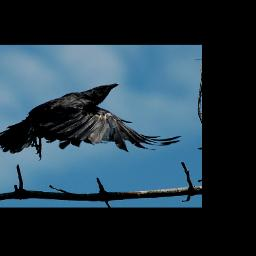Crow: (0, 82, 185, 162)
